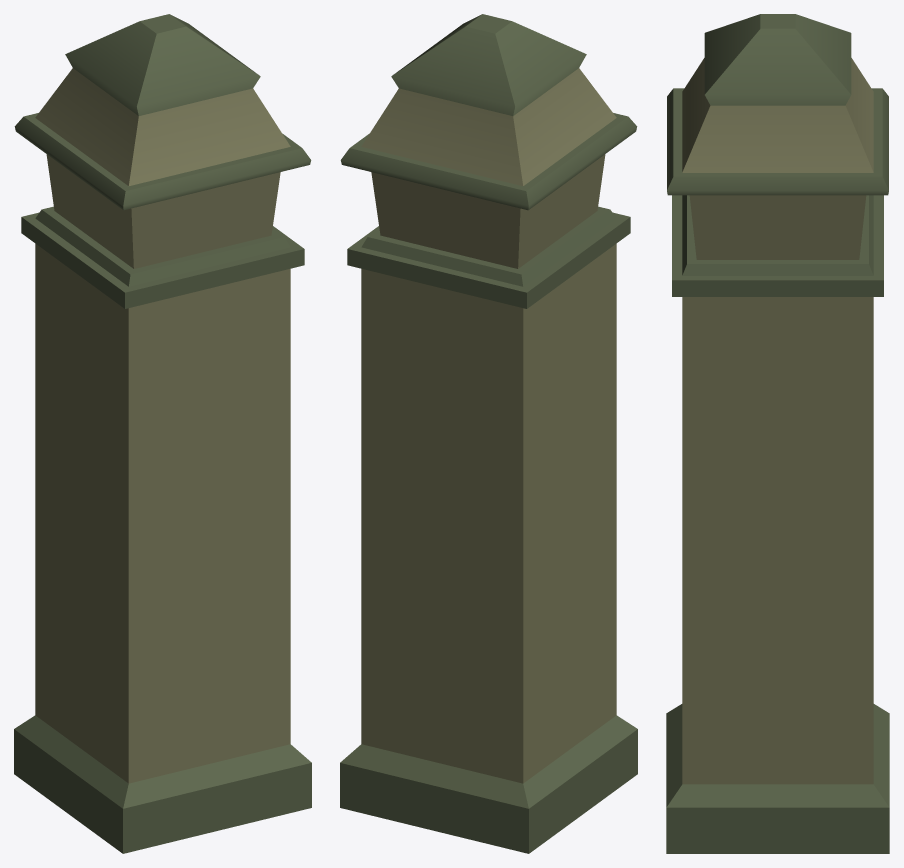
File: Pillar01.fbx
3 renders of one model, left to right at view 1: azimuth 30°, elevation 25°; view 2: azimuth 150°, elevation 25°; view 3: azimuth 270°, elevation 25°, orthographic. The views are drawn at different scales.
Parts seen in each view (by area): view 1: Pillar01; view 2: Pillar01; view 3: Pillar01.
Boxes of the visible parts, box(x1,y1,x2,y2) form: Pillar01: box(14, 14, 311, 853); Pillar01: box(340, 14, 637, 853); Pillar01: box(666, 14, 889, 853).
Size of the model in its own units: 0.2033 by 0.789 by 0.2033.
